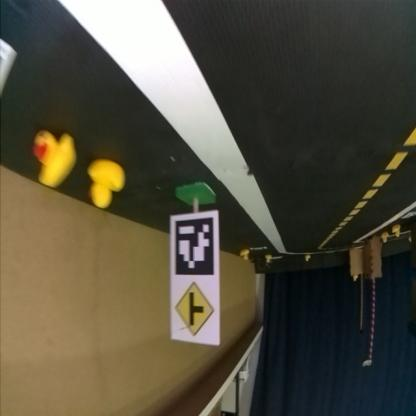Duckie: (34, 132, 76, 186), (90, 160, 124, 208), (240, 250, 250, 260), (267, 254, 273, 262), (306, 254, 312, 262)
Intersection sign: (174, 282, 216, 336)
QR code: (175, 218, 215, 278)
